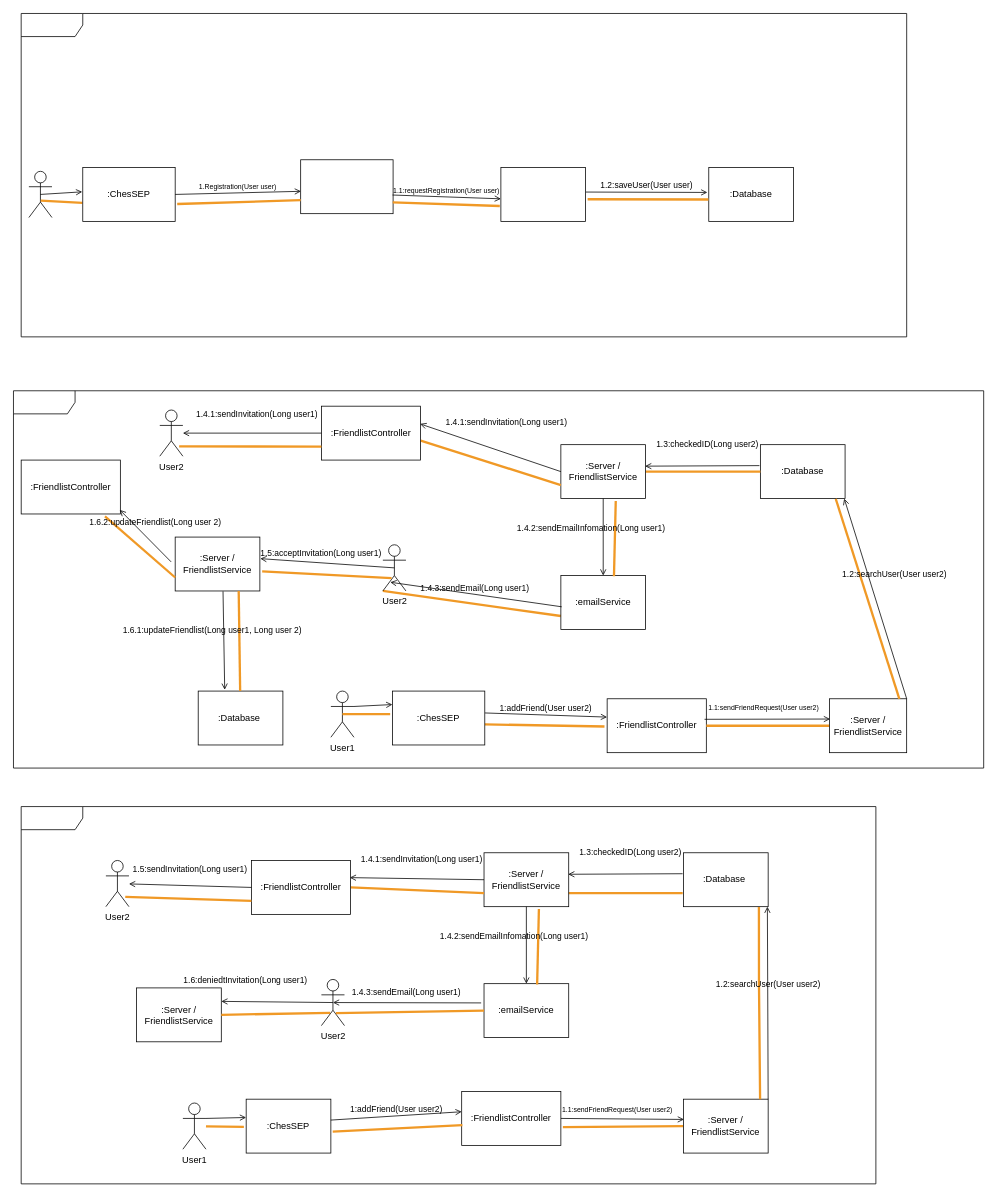
Image size: 997x1197. Some labels were removed from this diagram. Each missing label, with the box of its shape:
:RegistrationController: (300, 159, 393, 214)
:Server / RegistrationService: (500, 167, 586, 221)
sd Add Friend: (13, 390, 984, 768)
sd denied Friend: (20, 806, 876, 1184)
sd Registration: (20, 13, 907, 337)
User: (28, 171, 52, 218)
